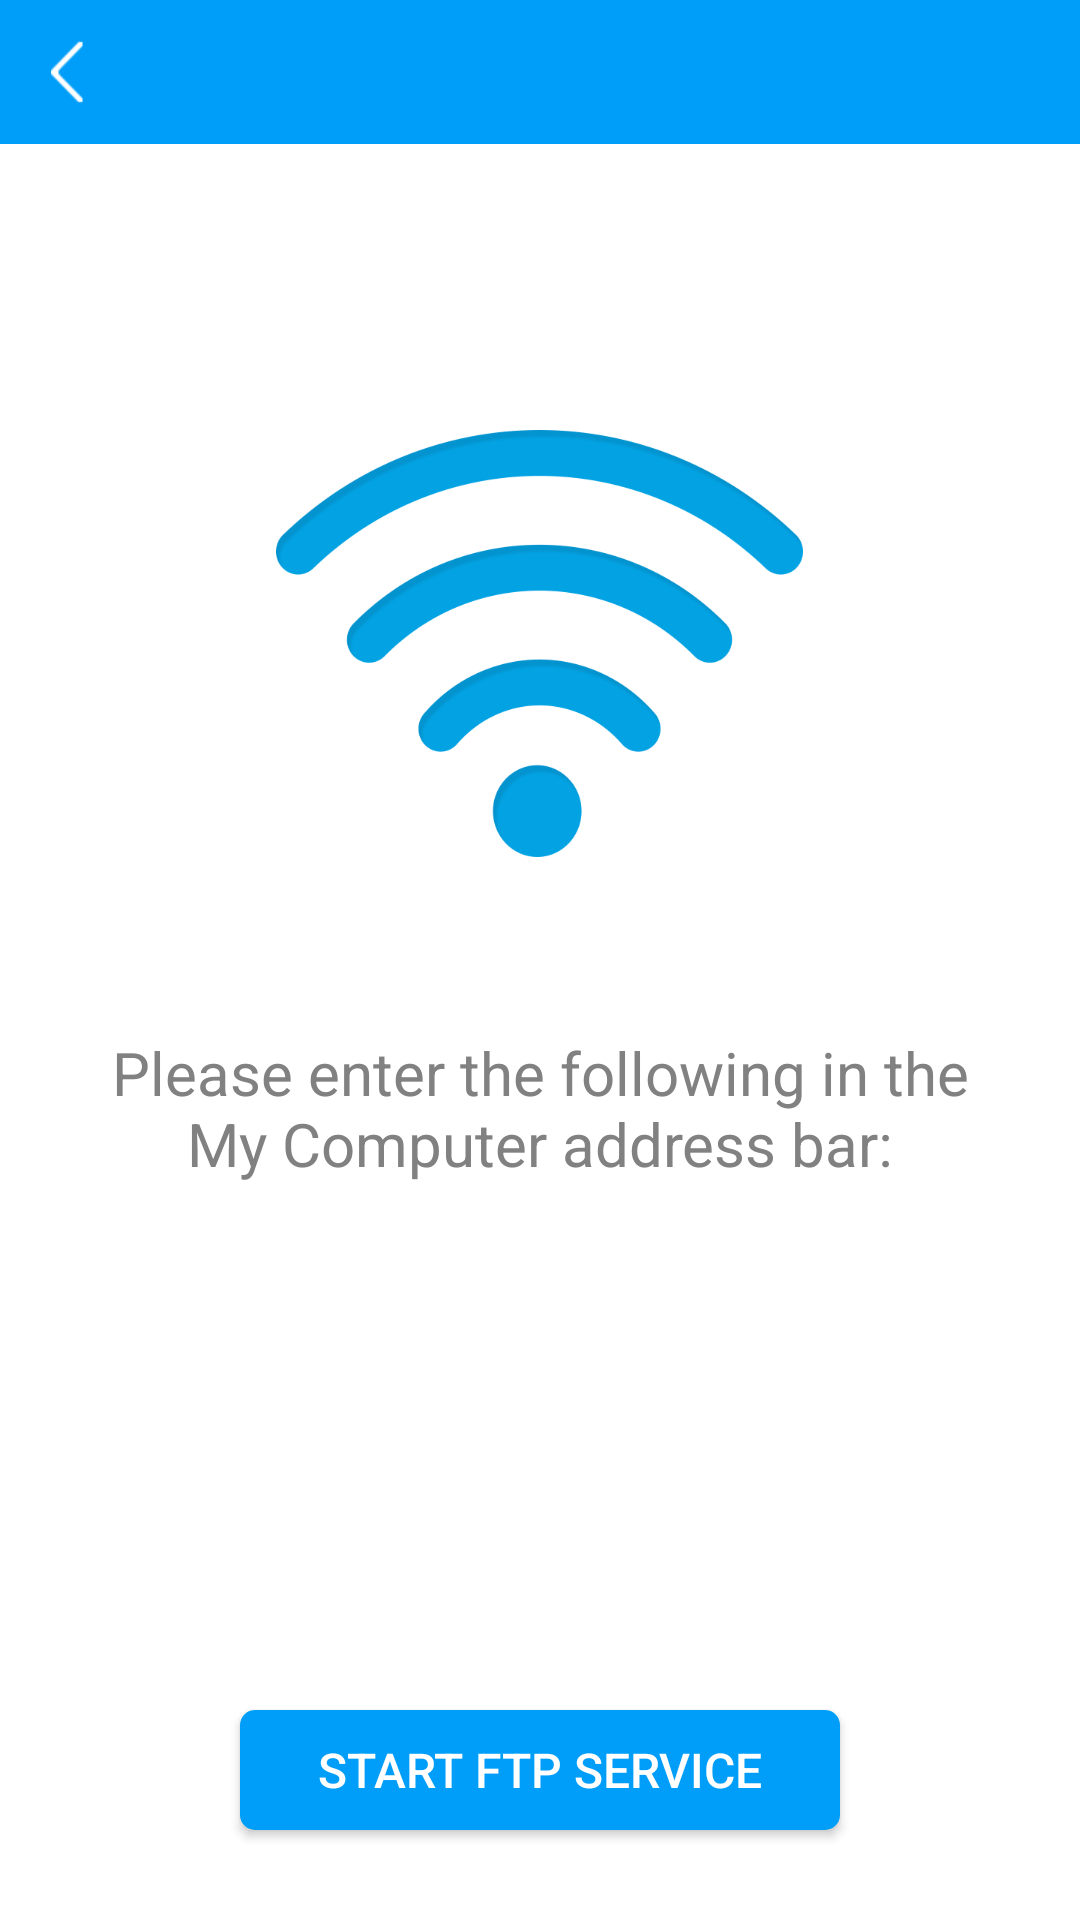

Icons on this 1080px×1920px Android screen, each with its box as (x1, y1, x2, y2):
back: (51, 41, 83, 103)
